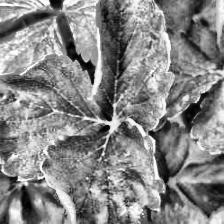Powdery Mildew Leaf: (0, 53, 108, 181), (39, 117, 165, 224), (91, 0, 173, 131), (155, 27, 224, 130)
